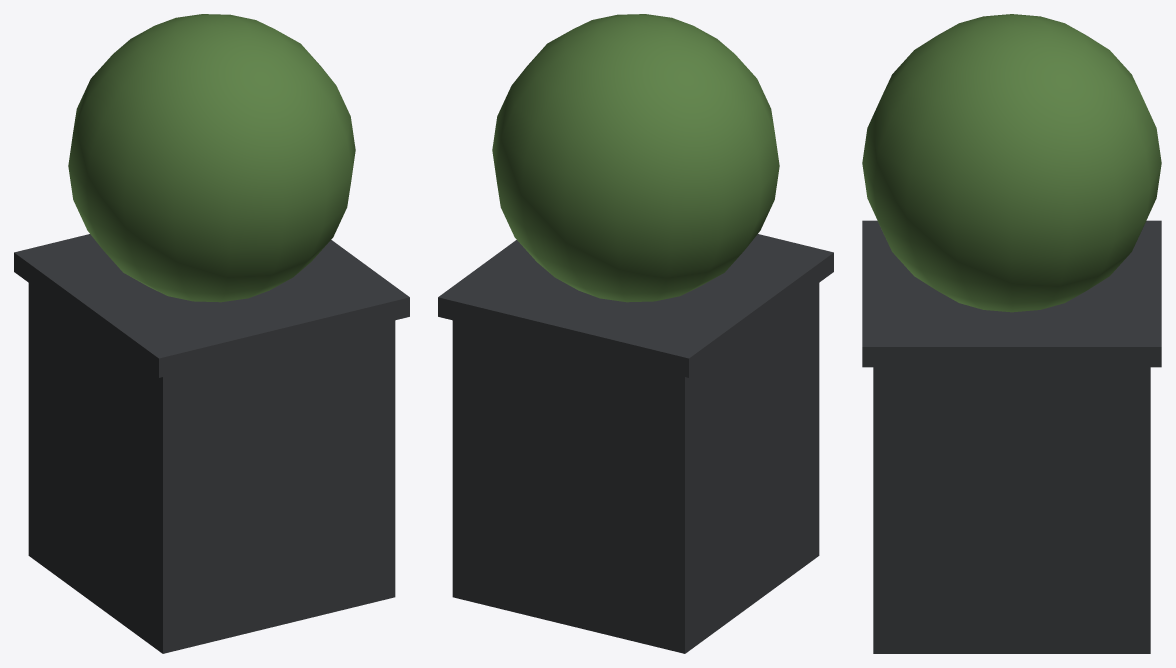
The picture shows the model from 3 angles, left to right: view 1: azimuth 30°, elevation 25°; view 2: azimuth 150°, elevation 25°; view 3: azimuth 270°, elevation 25°; orthographic projection. The views are drawn at different scales.
Visible parts, largest first — view 1: box-primary (×2), sphere-leaf; view 2: box-primary (×2), sphere-leaf; view 3: box-primary (×2), sphere-leaf.
Boxes of the visible parts, x1,y1,x2,y2 form: box-primary (×2): [14, 234, 409, 653]; sphere-leaf: [68, 14, 355, 302]; box-primary (×2): [438, 234, 833, 653]; sphere-leaf: [492, 14, 779, 302]; box-primary (×2): [862, 220, 1161, 653]; sphere-leaf: [862, 14, 1161, 312].
Bounding box in the file's own units: 0.54 × 1.13 × 0.54.
